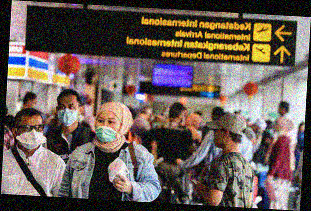with_mask: (93, 115, 124, 144), (17, 120, 45, 149), (56, 102, 80, 127)
without_mask: (211, 128, 223, 147)
